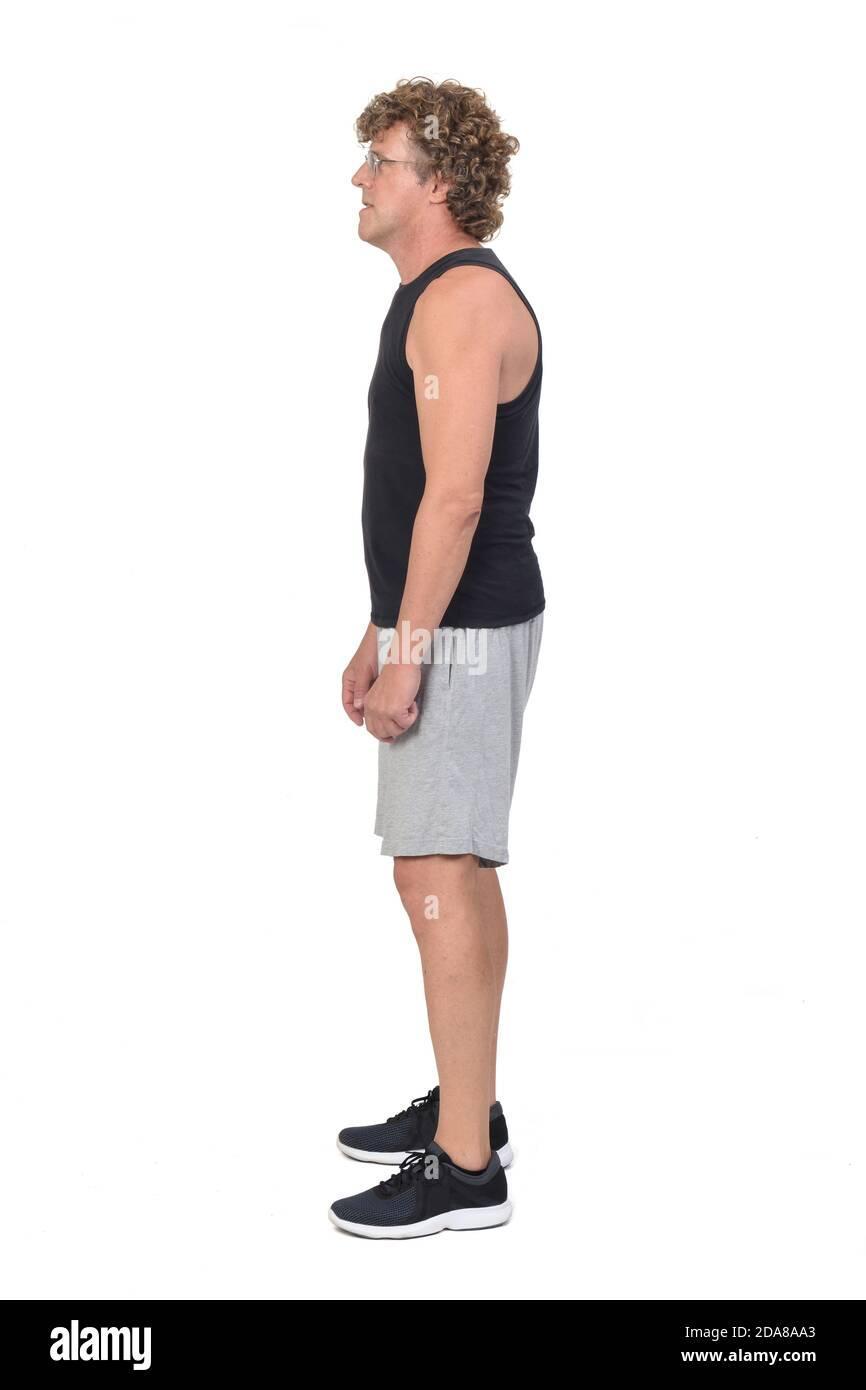Shorts: (366, 602, 544, 873)
vest: (352, 240, 554, 628)
